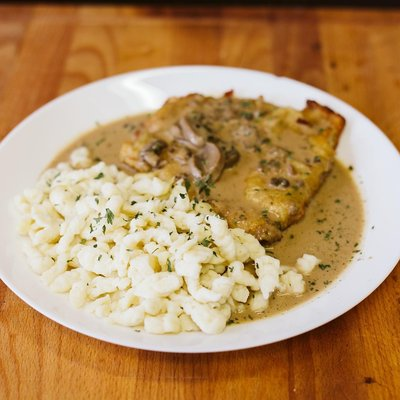sushi: (0, 63, 398, 400)
